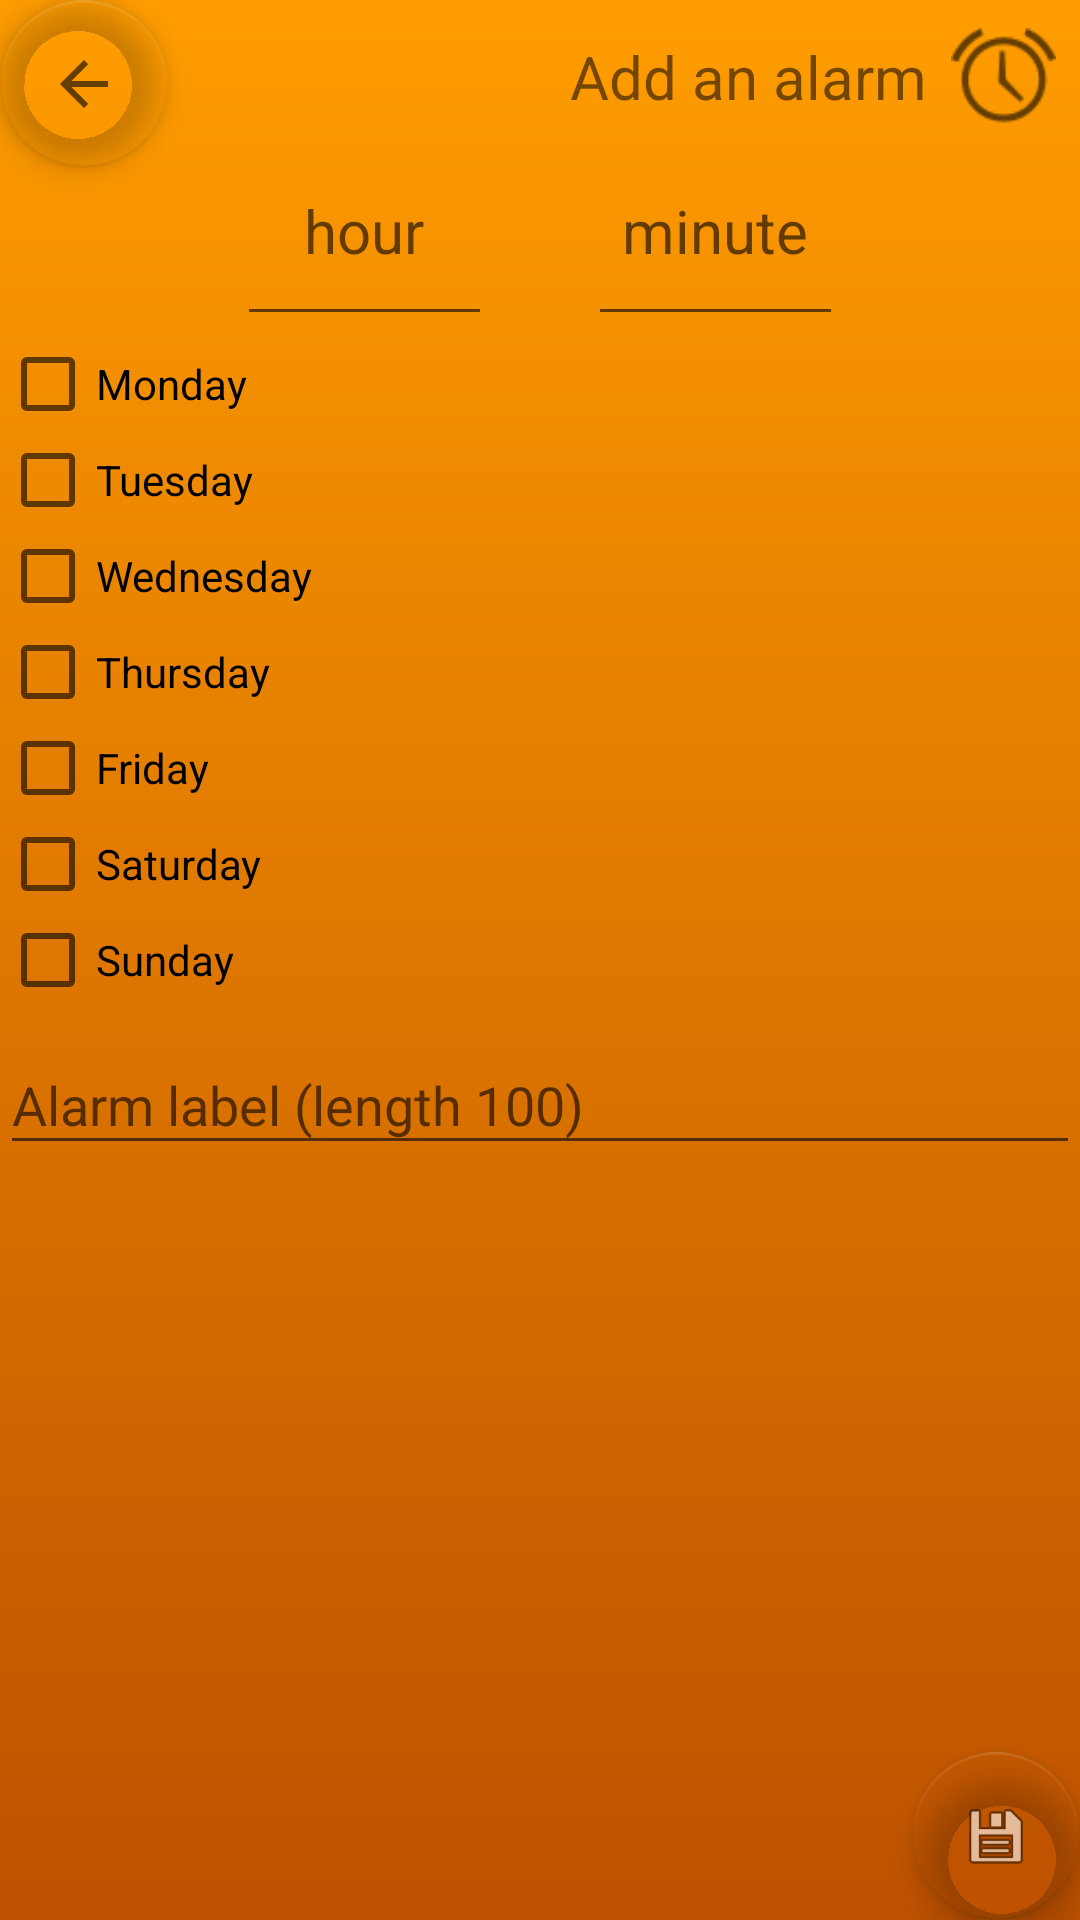

Icons on this 1080px×1920px Android screen, each with the point to tap as (x=x, y=y):
save: (x=996, y=1836)
